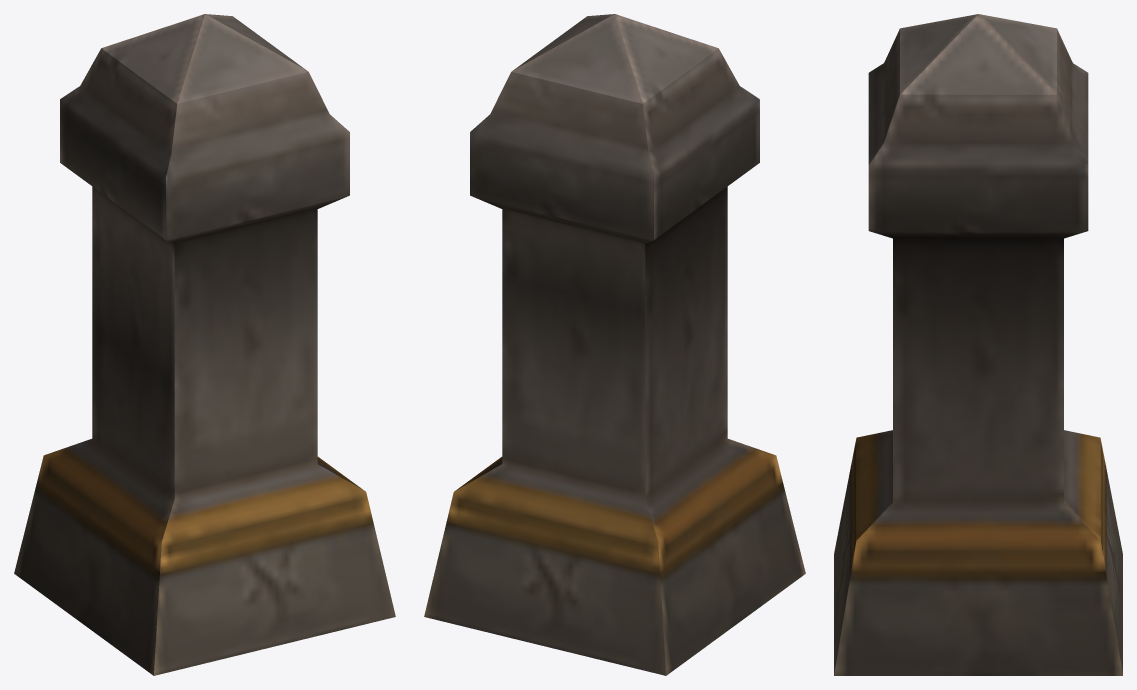
File: Battle06_Pillar_05.FBX
The picture shows the model from 3 angles, left to right: view 1: azimuth 30°, elevation 25°; view 2: azimuth 150°, elevation 25°; view 3: azimuth 270°, elevation 25°; orthographic projection. The views are drawn at different scales.
Visible parts, largest first — view 1: Battle06_Pillar_05; view 2: Battle06_Pillar_05; view 3: Battle06_Pillar_05.
Part boxes in pixels (x1,y1,x2,y2): Battle06_Pillar_05: (14,14,395,675); Battle06_Pillar_05: (424,14,805,675); Battle06_Pillar_05: (834,14,1122,675).
Bounding box in the file's own units: 1.29 × 2.96 × 1.29.
